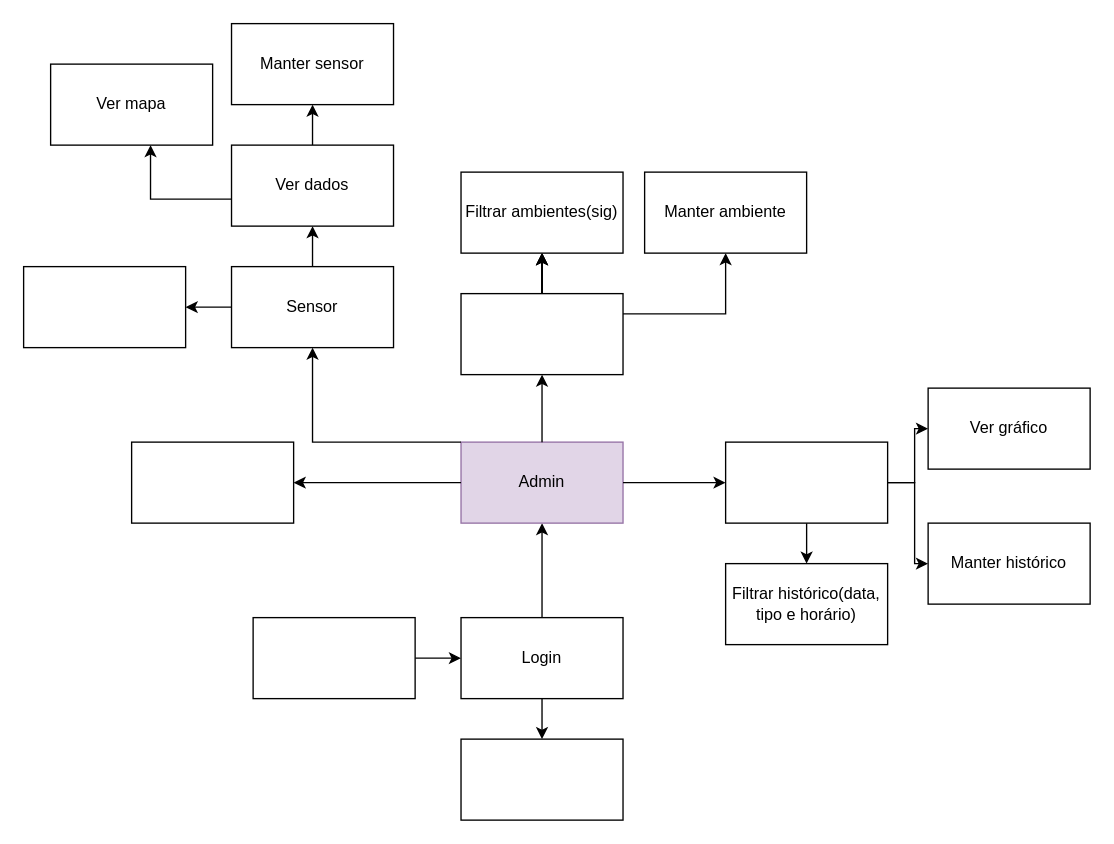
Image size: 1114x844. Some labels were removed from this diagram. The shapes that lost their labels are listed below. From the top down, each one's centre as x and y in pixels, then its label:
At pixel 104 306: "Filtrar sensores (mac e tipo)".
At pixel 541 333: "Ambiente".
At pixel 212 482: "Importar arquivo".
At pixel 806 482: "Histórico".
At pixel 333 657: "Página principal".
At pixel 541 779: "Registrar".
